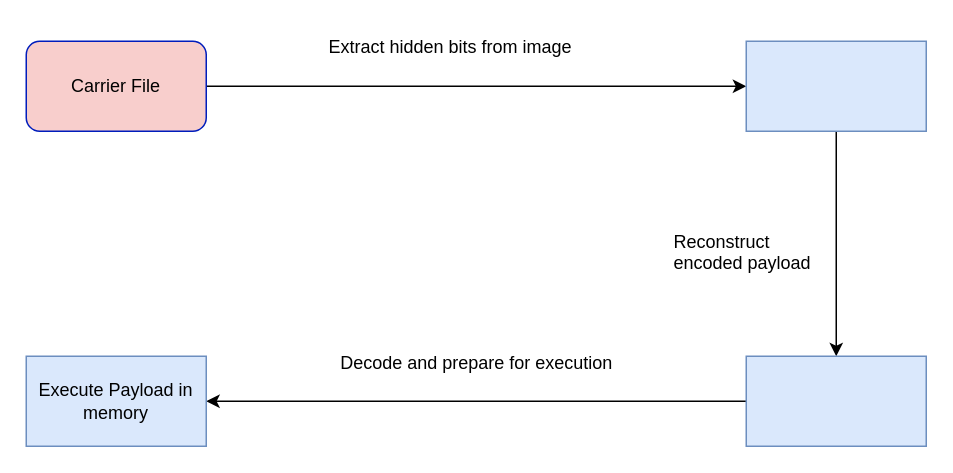
This 953x473 diagram has some shape labels left out. Each missing label, with the centre of its shape:
Decode (e.g. Base64, XOR): (835,400)
Read LSBs: (835,85)
